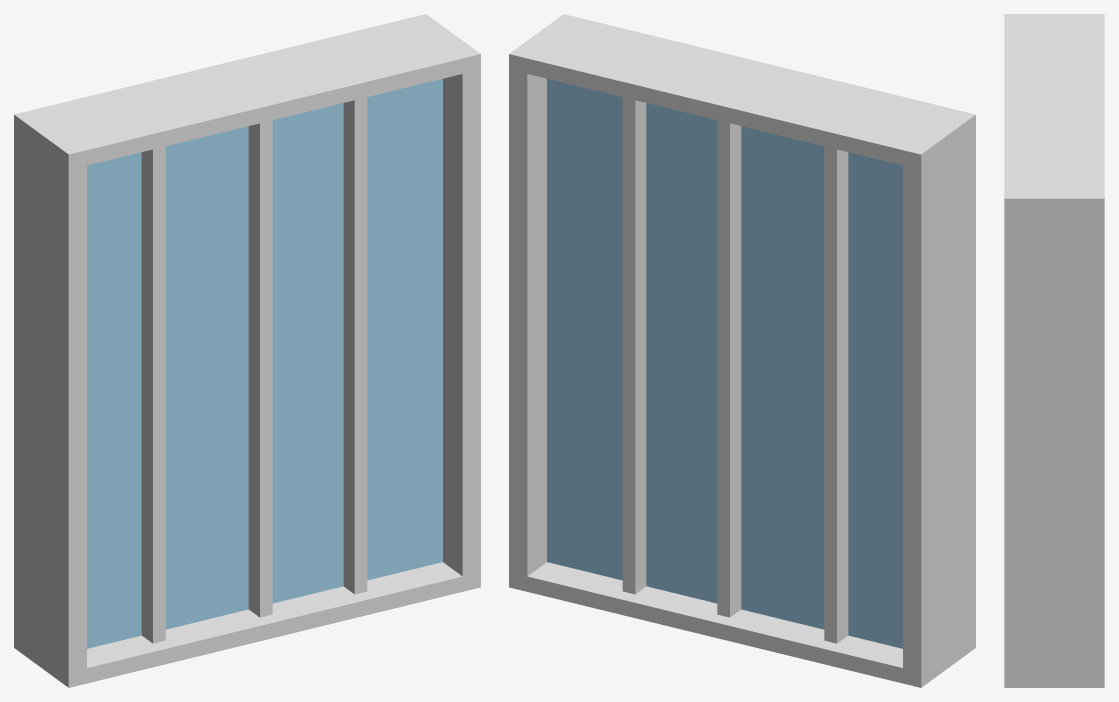
The model's file is window_014.glb.
3 renders of one model, left to right at view 1: azimuth 30°, elevation 25°; view 2: azimuth 150°, elevation 25°; view 3: azimuth 270°, elevation 25°, orthographic. The views are drawn at different scales.
Parts seen in each view (by area): view 1: window_014; view 2: window_014; view 3: window_014.
Boxes of the visible parts, x1,y1,x2,y2 form: window_014: (14, 14, 480, 687); window_014: (509, 14, 975, 687); window_014: (1004, 14, 1104, 687).
Size of the model in its own units: 1.61 by 1.99 by 0.37.
Materials: 1 (1 with a texture image).
